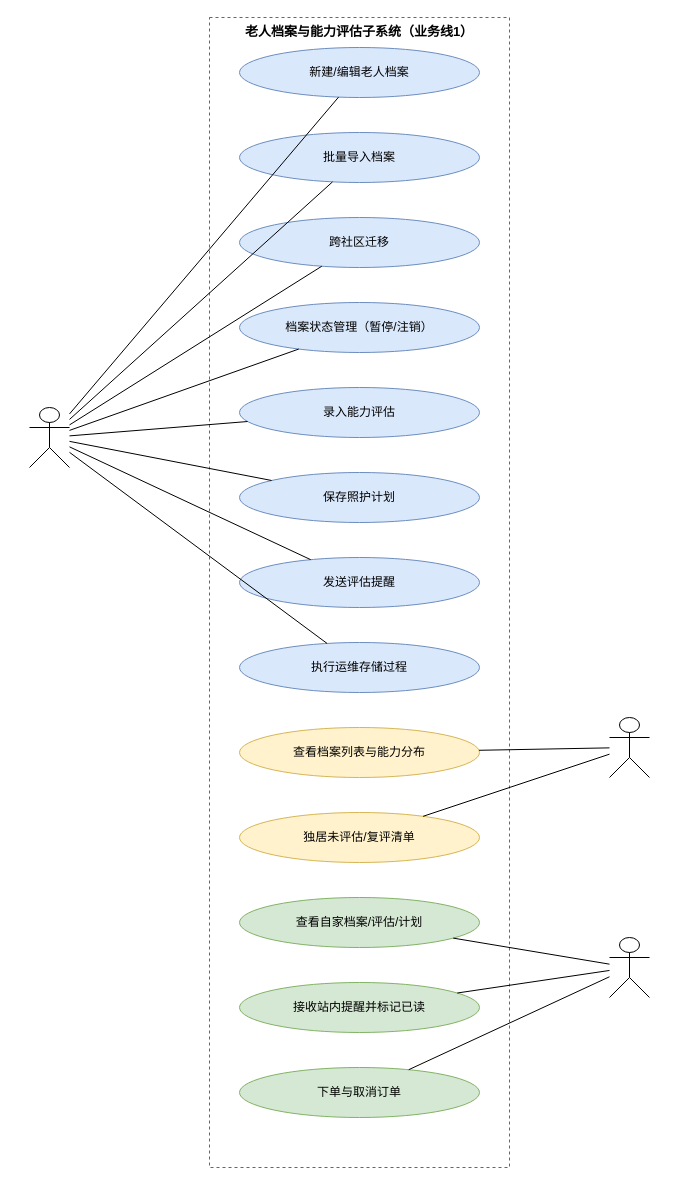
The diagram is 673 pixels wide and 1185 high, and some of its shapes have lost their labels. Each missing label, with the centre of its shape:
家属: point 629,967
监管人员: point 629,747
社区管理员: point 49,437
